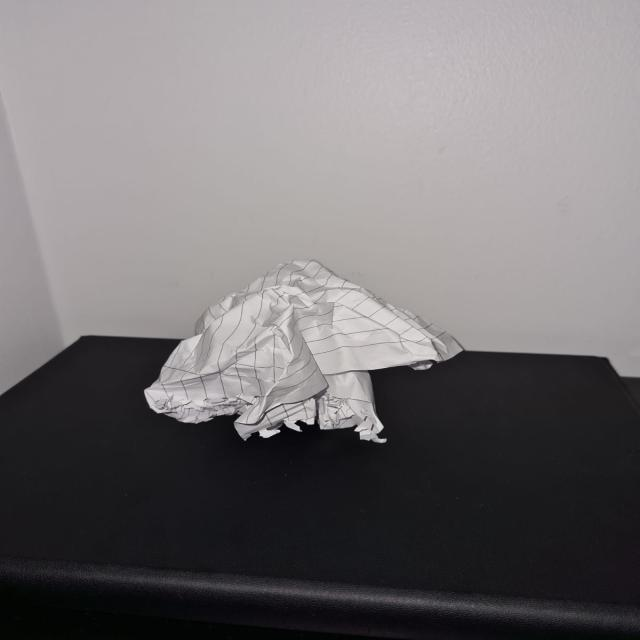Paper: (150, 261, 465, 443)
